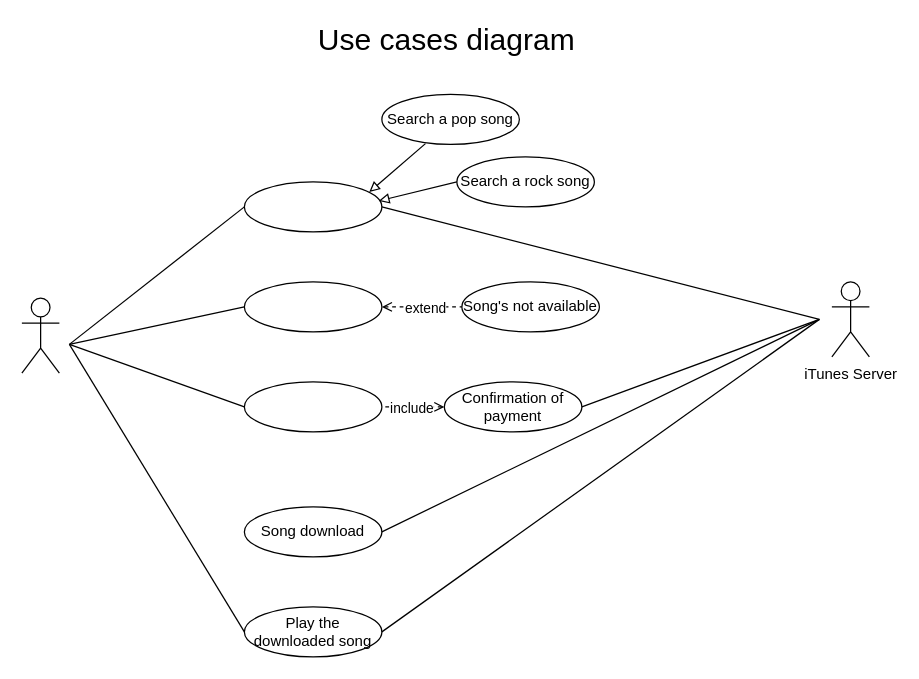
The diagram is 919 pixels wide and 679 high, and some of its shapes have lost their labels. Each missing label, with the centre of its shape:
"Choose a song" goes at point (312, 306).
"Payment" goes at point (312, 406).
"Search a song" goes at point (312, 206).
"User" goes at point (40, 335).
